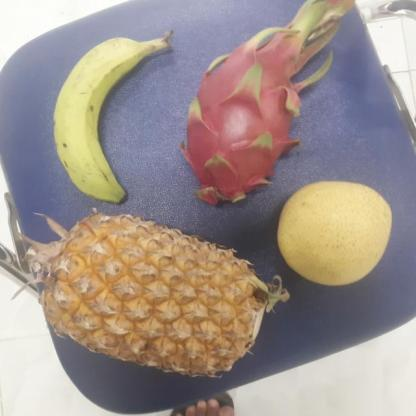banana: (50, 38, 164, 203)
pear: (273, 182, 393, 283)
pineapple: (30, 212, 262, 376)
pitaya: (177, 42, 311, 202)
